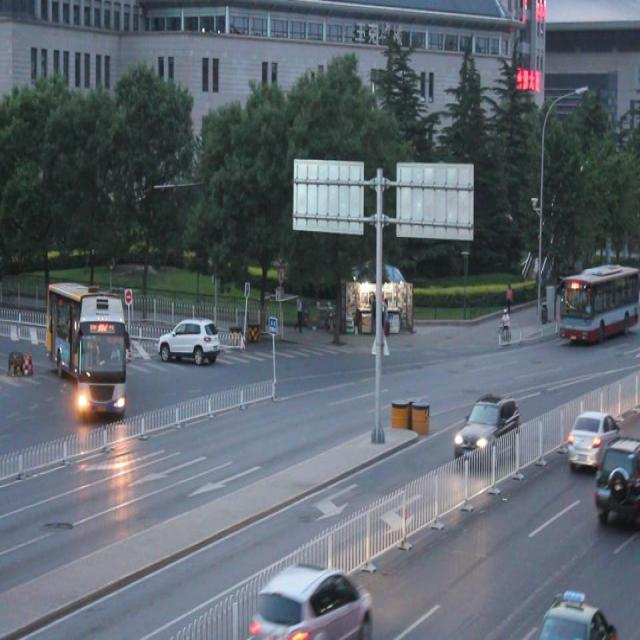car: (252, 563, 372, 640), (452, 388, 519, 465), (529, 586, 615, 640), (592, 437, 640, 521), (563, 410, 620, 472), (159, 313, 218, 366)
van: (46, 278, 130, 412)
